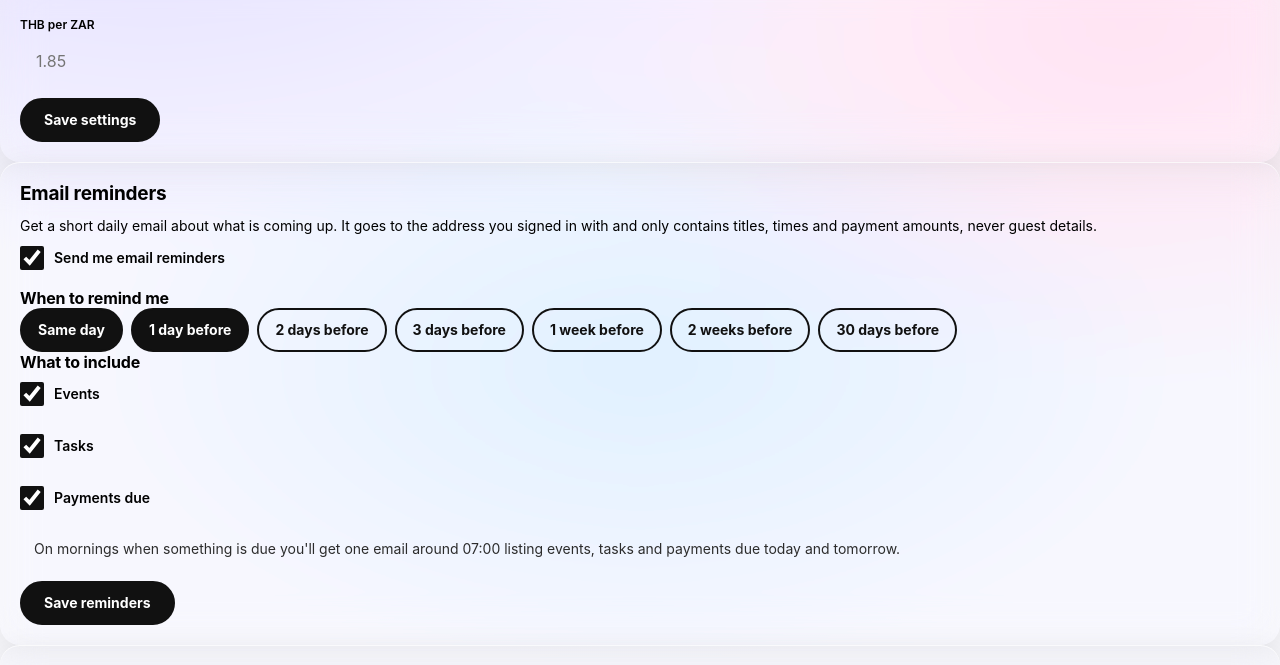
Scenario: chips are 44px-class toggles and stop at six
(page scrolled)
Click the button "2 days before": (322, 330) [257,308,387,352]
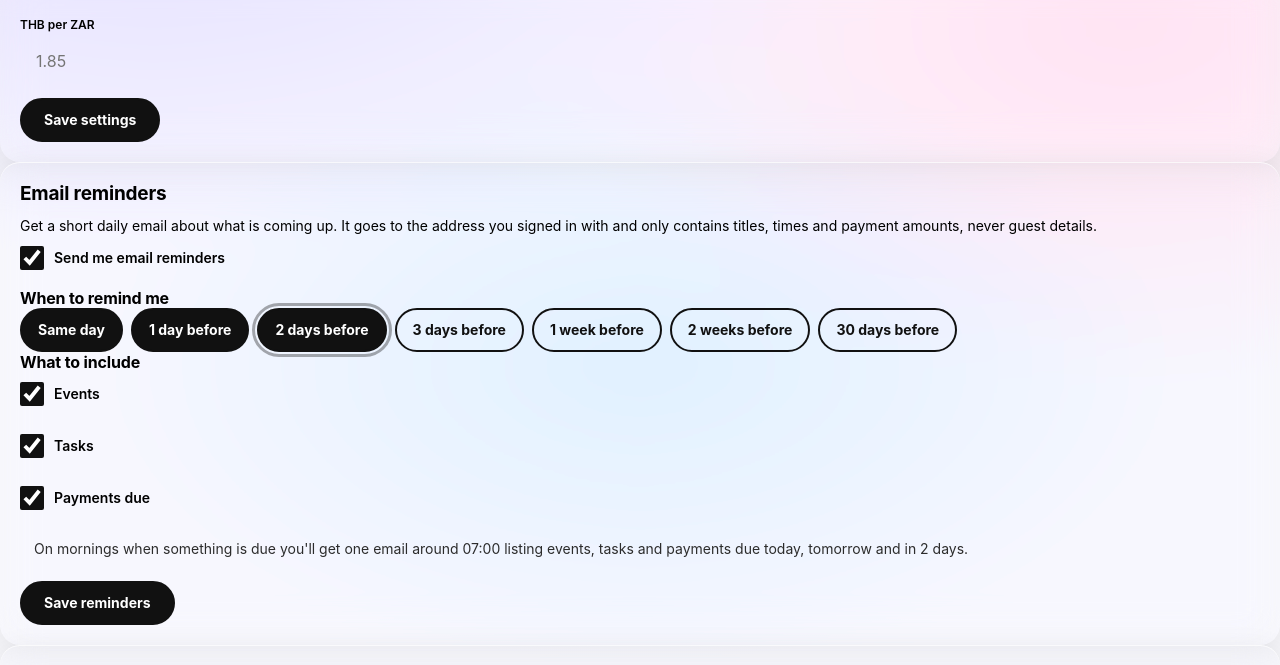
Click the button "3 days before": (459, 330) [395,308,524,352]
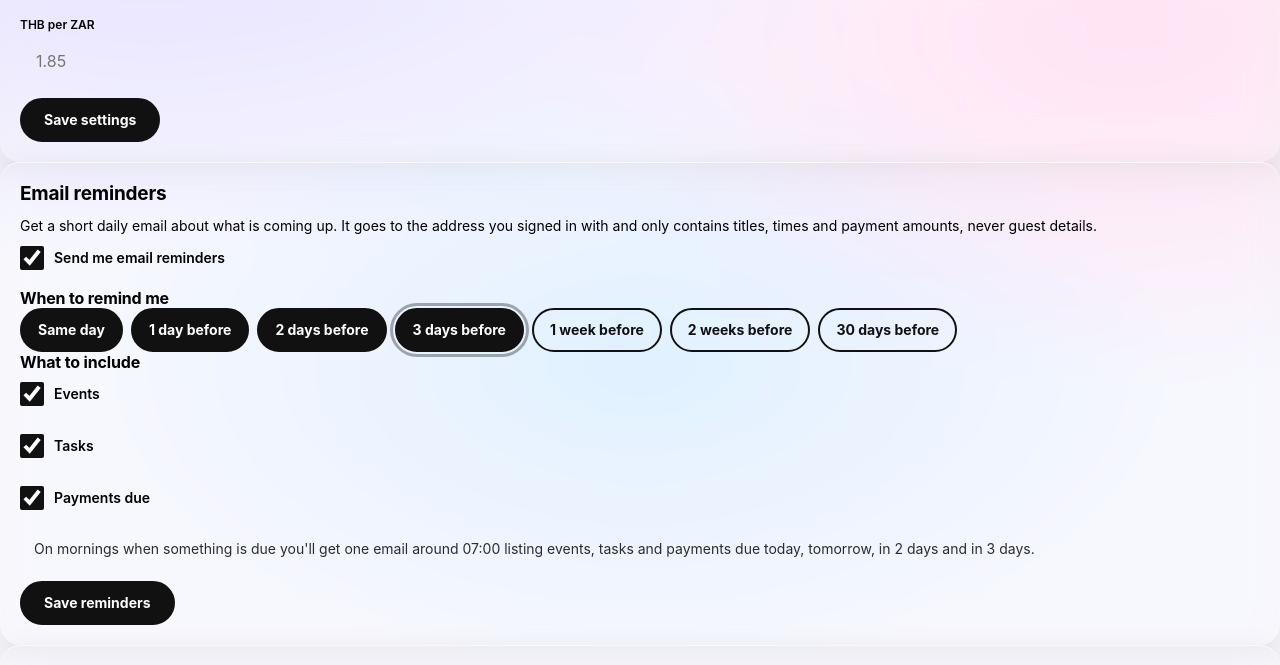
Click the button "1 week before": (597, 330) [532,308,662,352]
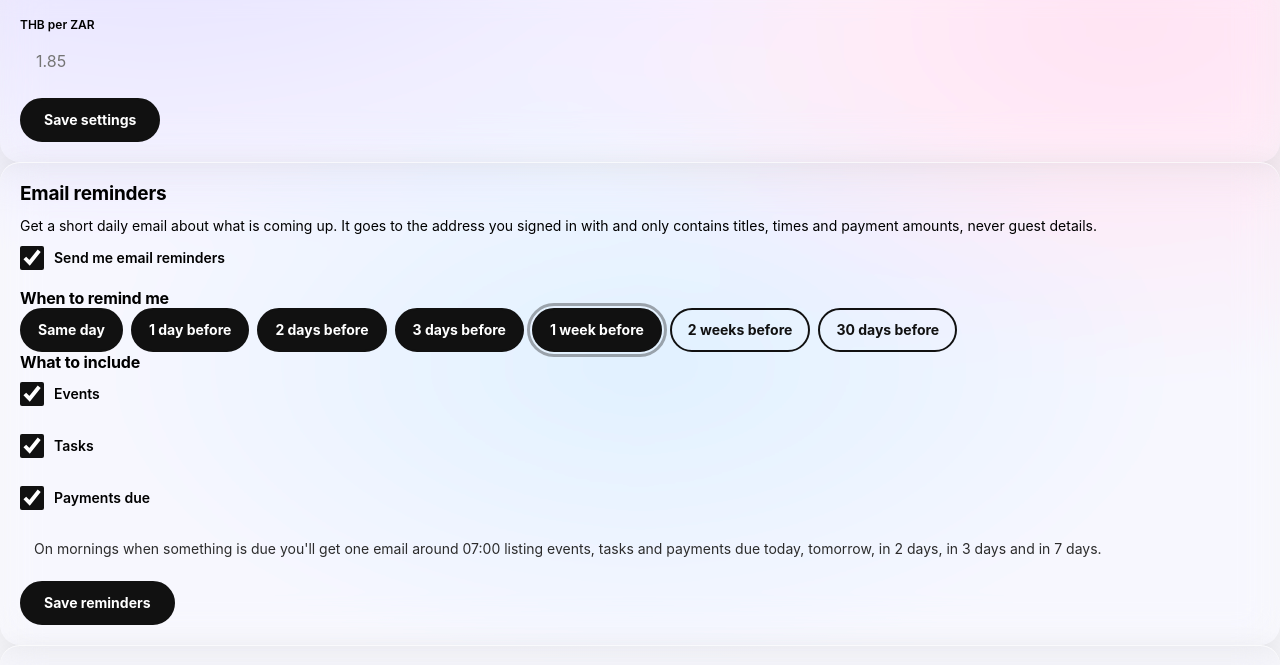
Click the button "2 weeks before": (740, 330) [670,308,810,352]
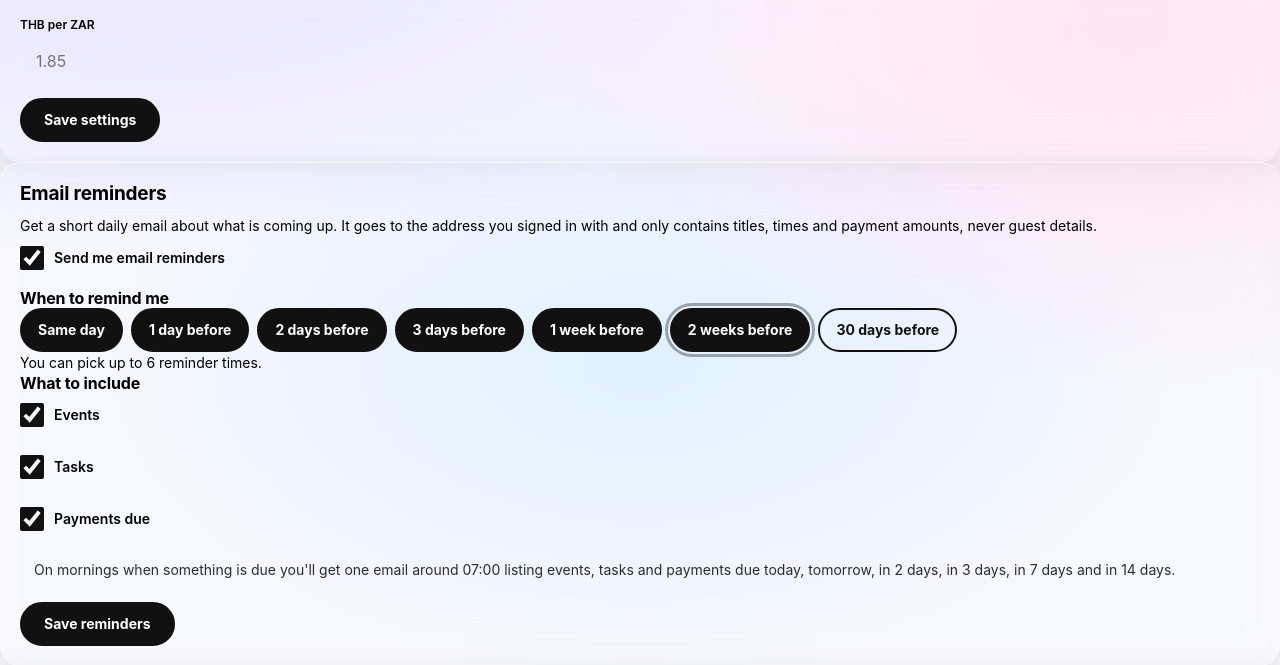
Expected: the button "30 days before" is disabled, [818,308,957,352]
Now the text "You can pick up to 6 reminder times." is shown, box [20,354,262,371]
